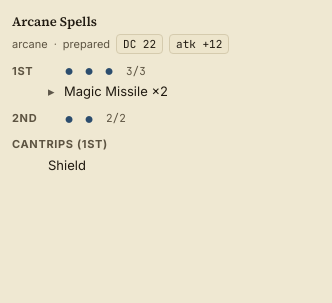
expands a spell row to show mechanics from the spell index
This screenshot has width=332, height=303.
Click the button "▸ Magic Missile ×2" at point(108, 92), box left=48, top=82, right=168, bottom=102
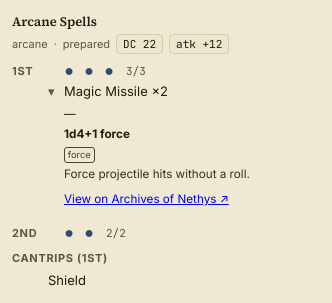
Result: the text "1d4+1 force" is shown at left=64, top=126, right=130, bottom=144
Result: the link "View on Archives of Nethys ↗" is shown at left=64, top=192, right=229, bottom=206
